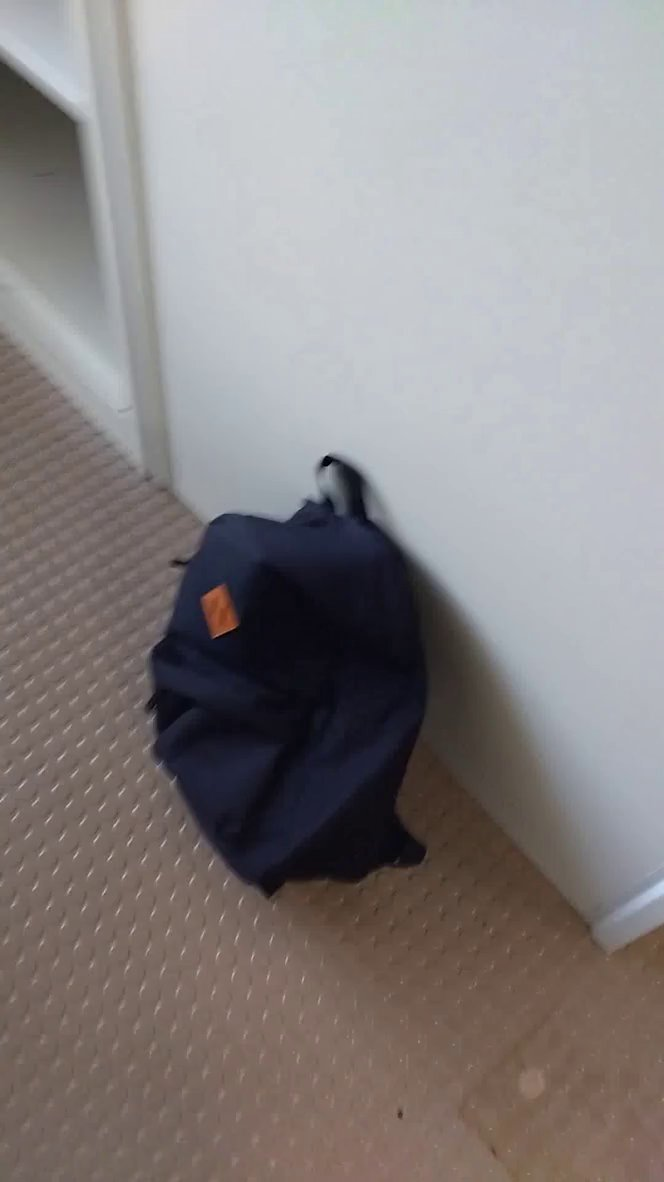bag: (131, 435, 484, 913)
